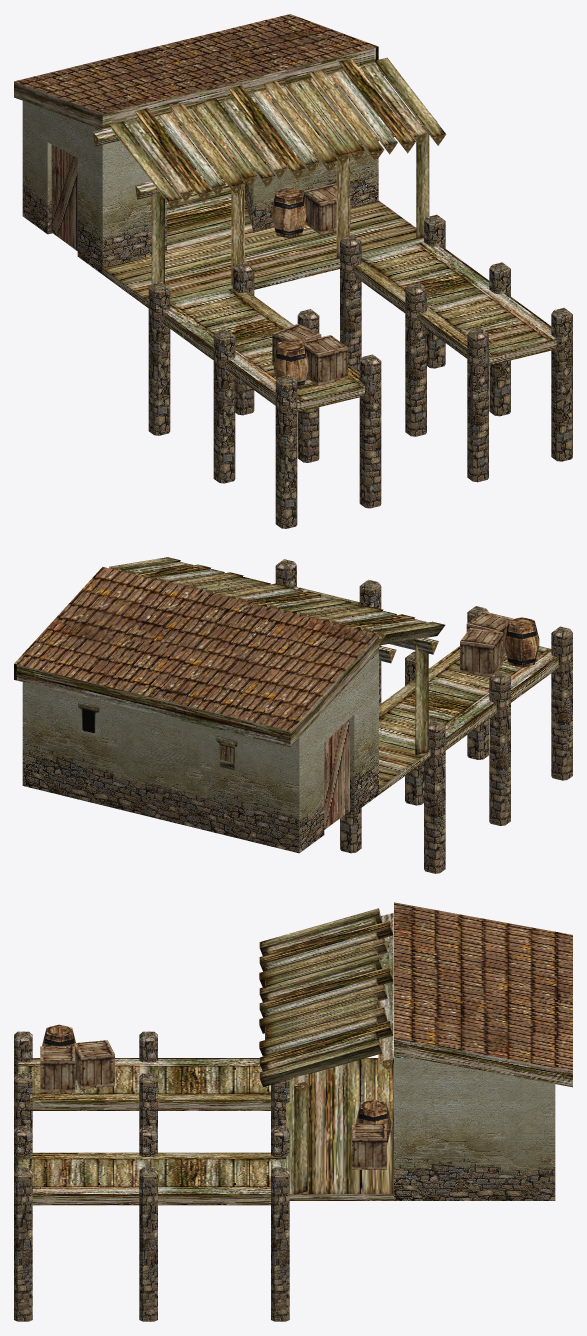
Rendered from iber_dock.dae.
3 views of the same model, one above another, from view 1: azimuth 30°, elevation 25°; view 2: azimuth 150°, elevation 25°; view 3: azimuth 270°, elevation 25° (orthographic).
Visible parts, largest first — view 1: dock; view 2: dock; view 3: dock.
Part boxes in pixels (<box>): dock: <box>14,14,572,528</box>; dock: <box>14,557,572,873</box>; dock: <box>14,902,572,1321</box>.
Bounding box in the file's own units: 14.78 × 24 × 13.22.
